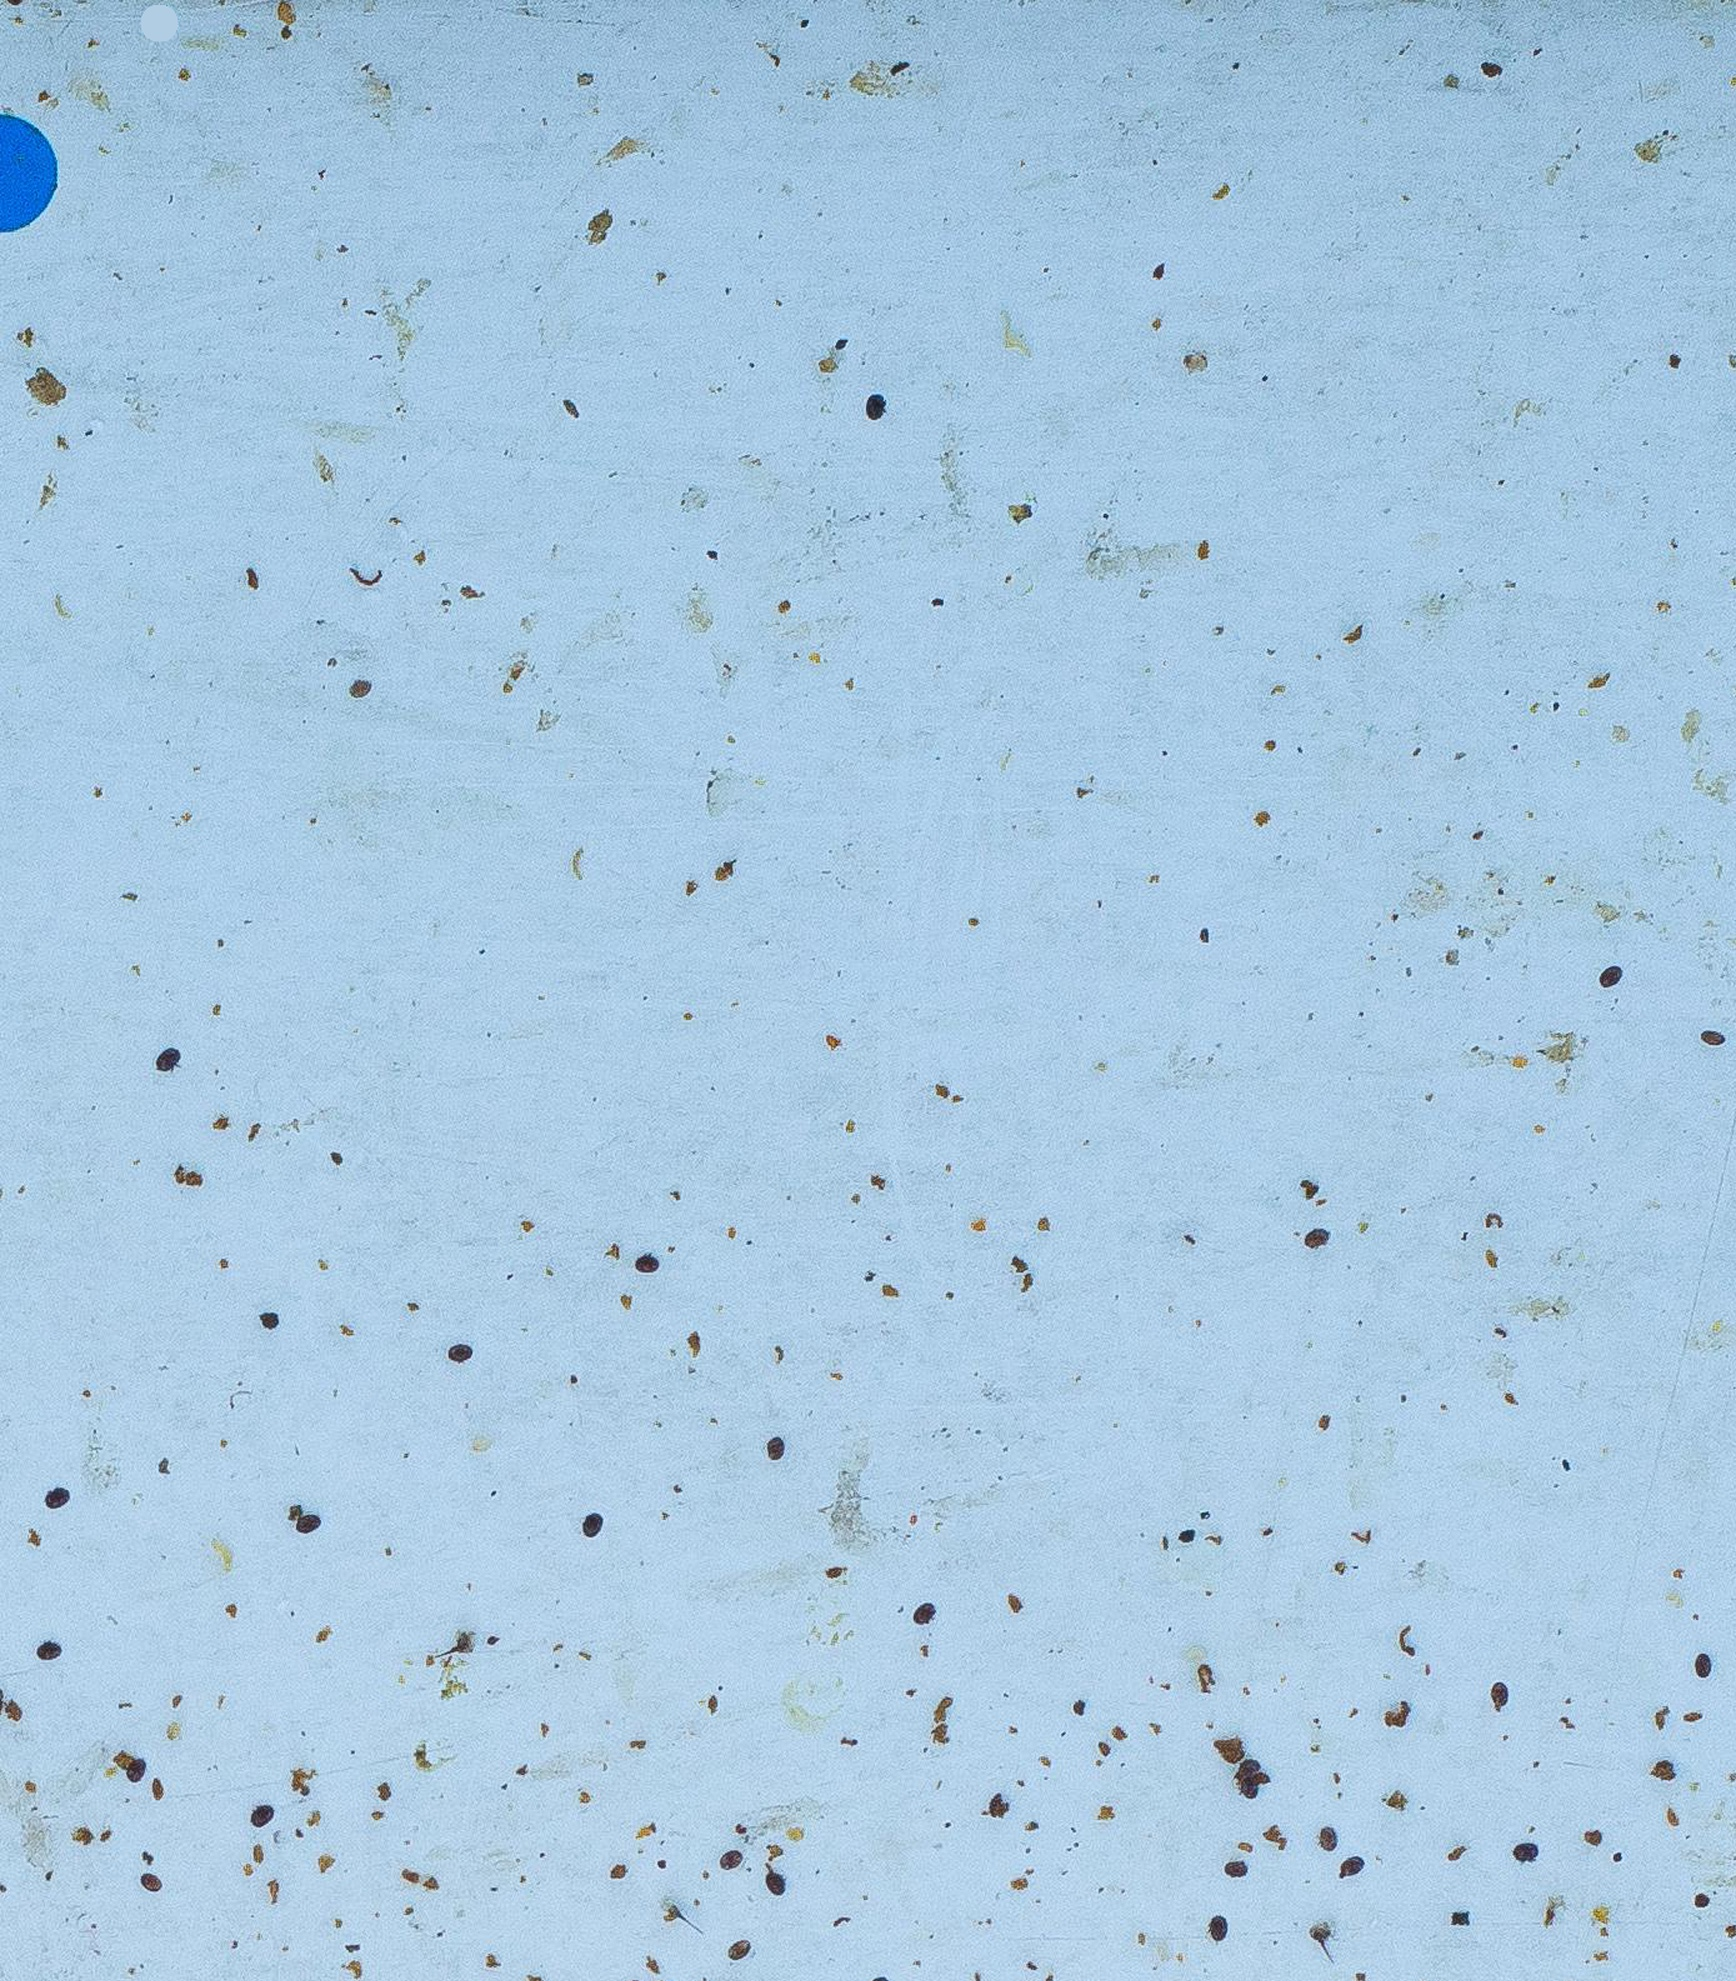Varroa: (337, 665, 381, 707), (113, 1749, 157, 1791), (1229, 1765, 1271, 1807), (1595, 958, 1633, 997), (1190, 1910, 1226, 1952), (1692, 1016, 1728, 1056), (630, 1240, 667, 1277), (754, 1846, 791, 1883), (759, 1870, 795, 1909), (1332, 1845, 1367, 1883), (859, 387, 892, 428), (756, 1432, 791, 1469), (1298, 1221, 1334, 1258), (244, 1792, 278, 1831), (285, 1501, 318, 1540), (152, 1044, 187, 1080), (439, 1339, 477, 1373), (716, 1929, 753, 1962), (140, 1868, 173, 1905), (42, 1484, 76, 1519), (1509, 1833, 1544, 1866), (904, 1599, 940, 1632), (29, 1632, 62, 1668), (1480, 1673, 1515, 1706), (1684, 1641, 1719, 1674), (709, 1845, 743, 1877), (1217, 1850, 1251, 1882), (1312, 1823, 1345, 1855), (1216, 1915, 1244, 1952), (576, 1504, 608, 1536)
